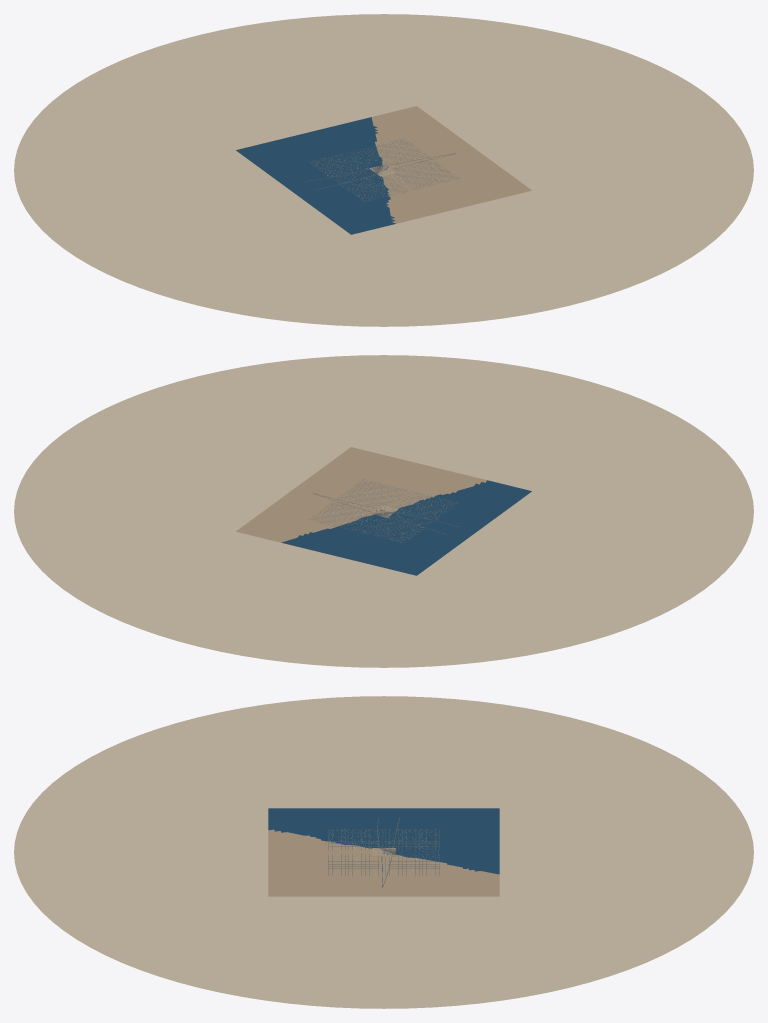
The model's file is dubai-skyline.glb.
3 views of the same model, one above another, from view 1: azimuth 30°, elevation 25°; view 2: azimuth 150°, elevation 25°; view 3: azimuth 270°, elevation 25° (orthographic).
Parts seen in each view (by area): view 1: UrbanGround, dubai_SolidCoastalExtension, UrbanRoads; view 2: UrbanGround, dubai_SolidCoastalExtension, UrbanRoads; view 3: UrbanGround, dubai_SolidCoastalExtension, UrbanRoads.
Part boxes in pixels (x1,y1,x2,y2): UrbanGround: (14,14,753,326); dubai_SolidCoastalExtension: (236,106,531,234); UrbanRoads: (305,138,456,201); UrbanGround: (14,355,753,667); dubai_SolidCoastalExtension: (236,447,531,575); UrbanRoads: (311,479,458,542); UrbanGround: (14,696,753,1008); dubai_SolidCoastalExtension: (268,808,499,896); UrbanRoads: (328,817,439,887).
Size of the model in its own units: 1600 by 8.68 by 1600.
Materials: 18 (3 with a texture image).
